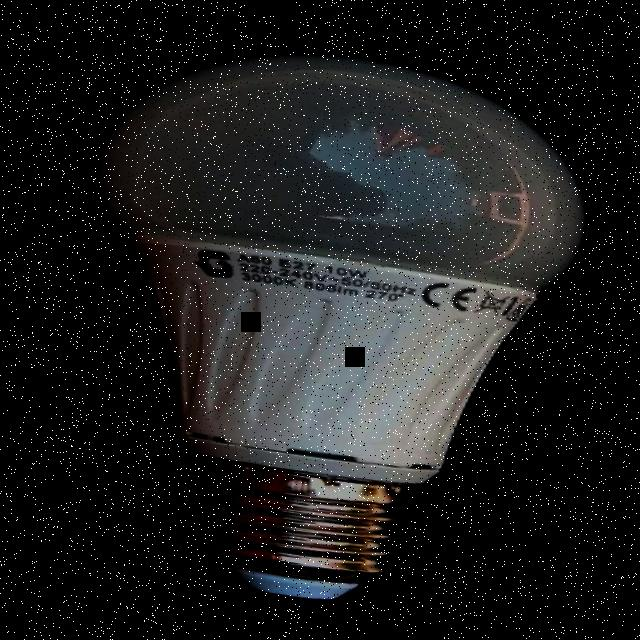light_bulb: (10, 10, 632, 640)
